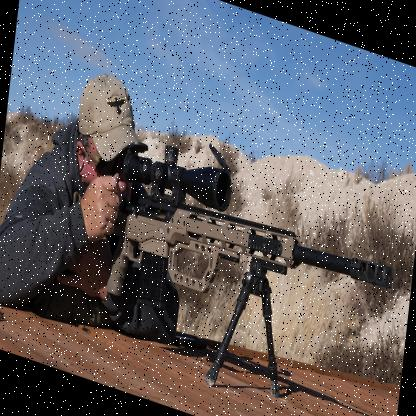rifle: (106, 144, 400, 388)
